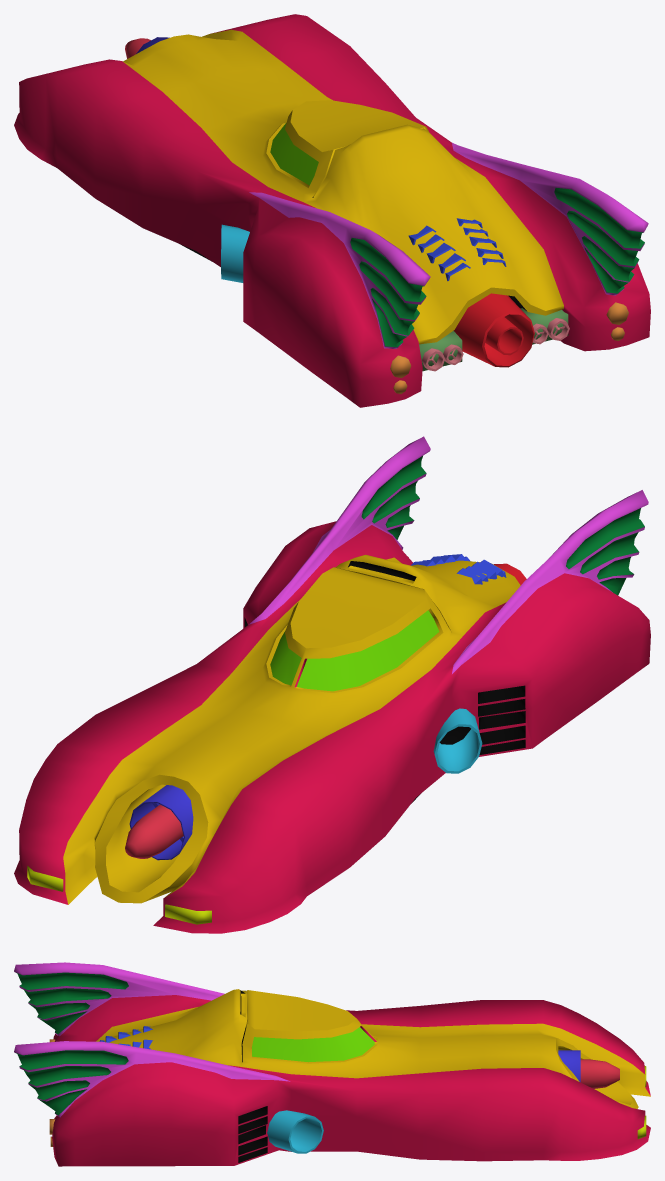
The model's file is BatMobilev02Material.fbx.
3 views of the same model, one above another, from view 1: azimuth 30°, elevation 25°; view 2: azimuth 150°, elevation 25°; view 3: azimuth 270°, elevation 25° (orthographic). The views are drawn at different scales.
Parts seen in each view (by area): view 1: Cube; view 2: Cube; view 3: Cube.
Boxes of the visible parts, x1,y1,x2,y2 form: Cube: (14,14,650,407); Cube: (14,436,650,933); Cube: (14,962,650,1166).
Size of the model in its own units: 4.04 by 9.47 by 1.94.
